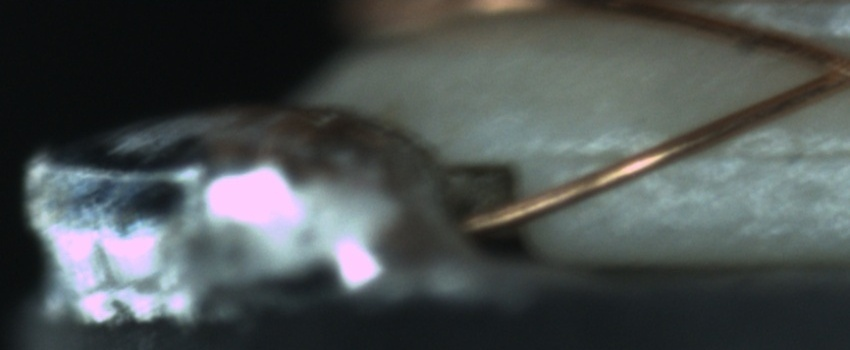CL: (799, 31, 849, 96)
DL: (533, 124, 850, 185)
